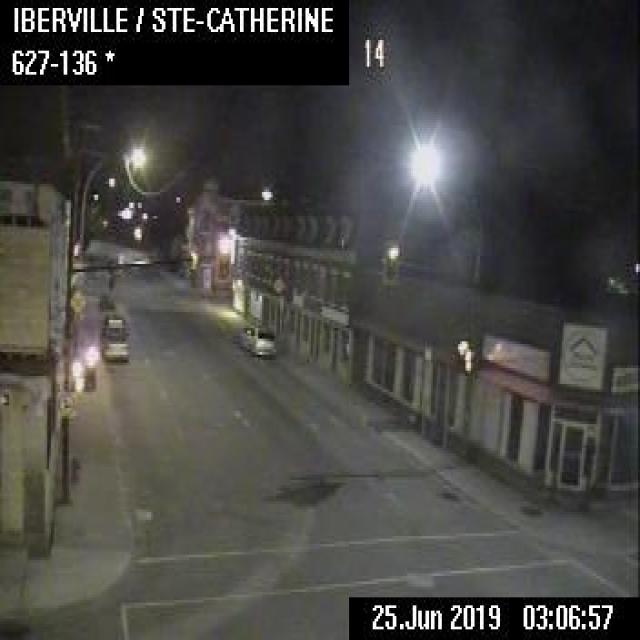vehicle: (236, 320, 276, 355), (101, 315, 128, 359)
